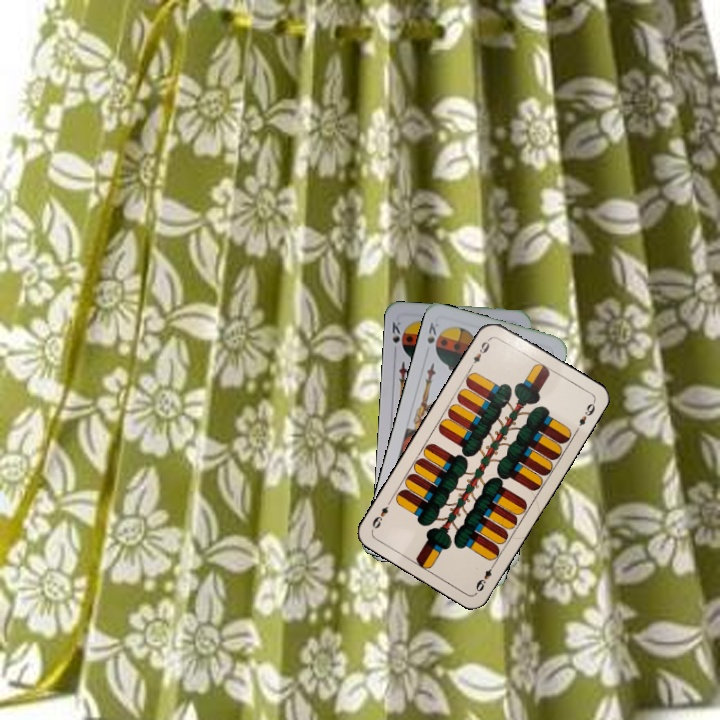E9: (466, 334, 494, 371), (471, 558, 498, 594)
SK: (423, 318, 441, 346), (388, 317, 403, 345)
